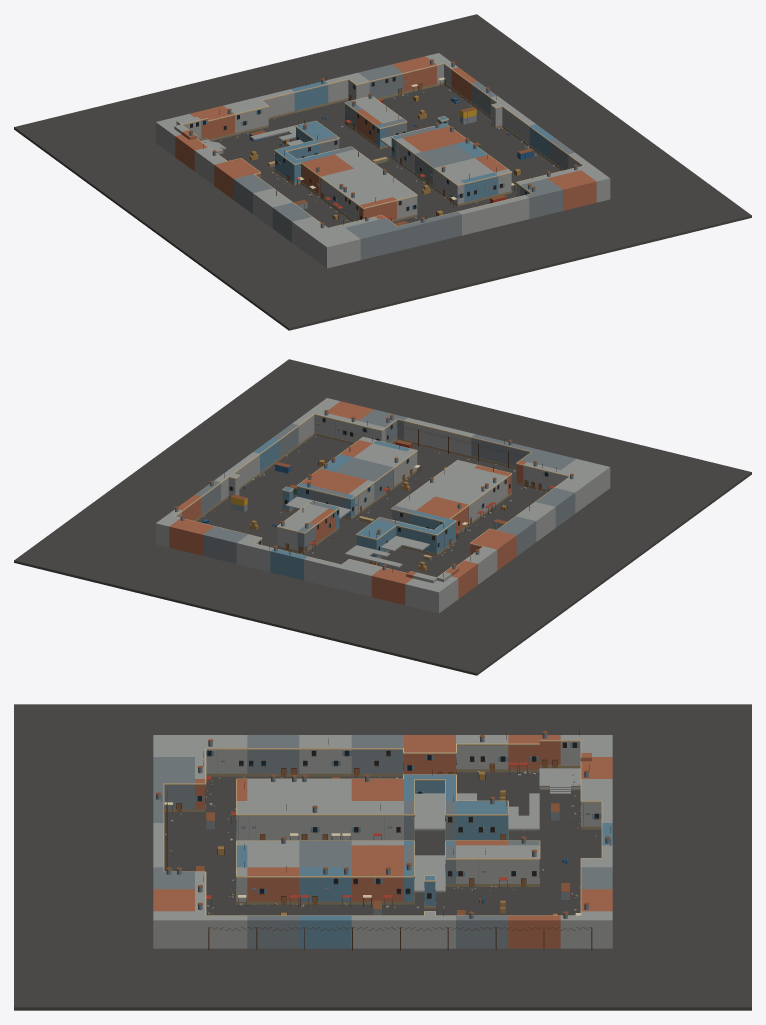
File: ombor.glb
The picture shows the model from 3 angles, top to bottom: view 1: azimuth 30°, elevation 25°; view 2: azimuth 150°, elevation 25°; view 3: azimuth 270°, elevation 25°; orthographic projection. The views are drawn at different scales.
Visible parts, largest first — view 1: world_asphalt, world_concrete, world_metal, world_brick, world_plaster_blue, decor_asphalt, decor_sand_wall, decor_stone_base, decor_wood_dark, decor_metal, decor_rust_metal; view 2: world_asphalt, world_concrete, world_metal, world_brick, world_plaster_blue, decor_asphalt, decor_sand_wall, decor_stone_base, decor_wood_dark, decor_metal; view 3: world_asphalt, world_concrete, world_metal, world_brick, world_plaster_blue, decor_sand_wall, decor_stone_base, decor_wood_dark, decor_asphalt, decor_metal, decor_rust_metal, decor_window_dark (+2 smaller).
Part boxes in pixels (left/top/right/bottom): world_asphalt: left=14, top=14, right=751, bottom=330; world_concrete: left=155, top=53, right=610, bottom=268; world_metal: left=233, top=64, right=574, bottom=259; world_brick: left=175, top=56, right=596, bottom=220; world_plaster_blue: left=275, top=81, right=555, bottom=202; decor_asphalt: left=339, top=128, right=554, bottom=212; decor_sand_wall: left=181, top=63, right=583, bottom=227; decor_stone_base: left=193, top=70, right=563, bottom=222; decor_wood_dark: left=176, top=76, right=532, bottom=224; decor_metal: left=189, top=61, right=577, bottom=228; decor_rust_metal: left=189, top=59, right=577, bottom=225; world_asphalt: left=14, top=359, right=751, bottom=675; world_concrete: left=155, top=398, right=610, bottom=613; world_metal: left=195, top=409, right=575, bottom=563; world_brick: left=169, top=401, right=526, bottom=604; world_plaster_blue: left=253, top=438, right=455, bottom=580; decor_asphalt: left=240, top=445, right=429, bottom=543; decor_sand_wall: left=174, top=414, right=569, bottom=577; decor_stone_base: left=194, top=417, right=558, bottom=558; decor_wood_dark: left=224, top=418, right=556, bottom=577; decor_metal: left=175, top=411, right=573, bottom=570; world_asphalt: left=14, top=704, right=751, bottom=1010; world_concrete: left=153, top=735, right=612, bottom=948; world_metal: left=153, top=735, right=612, bottom=948; world_brick: left=153, top=735, right=612, bottom=948; world_plaster_blue: left=236, top=774, right=612, bottom=948; decor_sand_wall: left=163, top=740, right=602, bottom=915; decor_stone_base: left=164, top=745, right=601, bottom=914; decor_wood_dark: left=161, top=729, right=610, bottom=930; decor_asphalt: left=236, top=842, right=444, bottom=915; decor_metal: left=156, top=733, right=609, bottom=929; decor_rust_metal: left=155, top=731, right=610, bottom=915; decor_window_dark: left=198, top=743, right=598, bottom=898.
Bounding box in the file's own units: 206 × 13.4 × 212.
